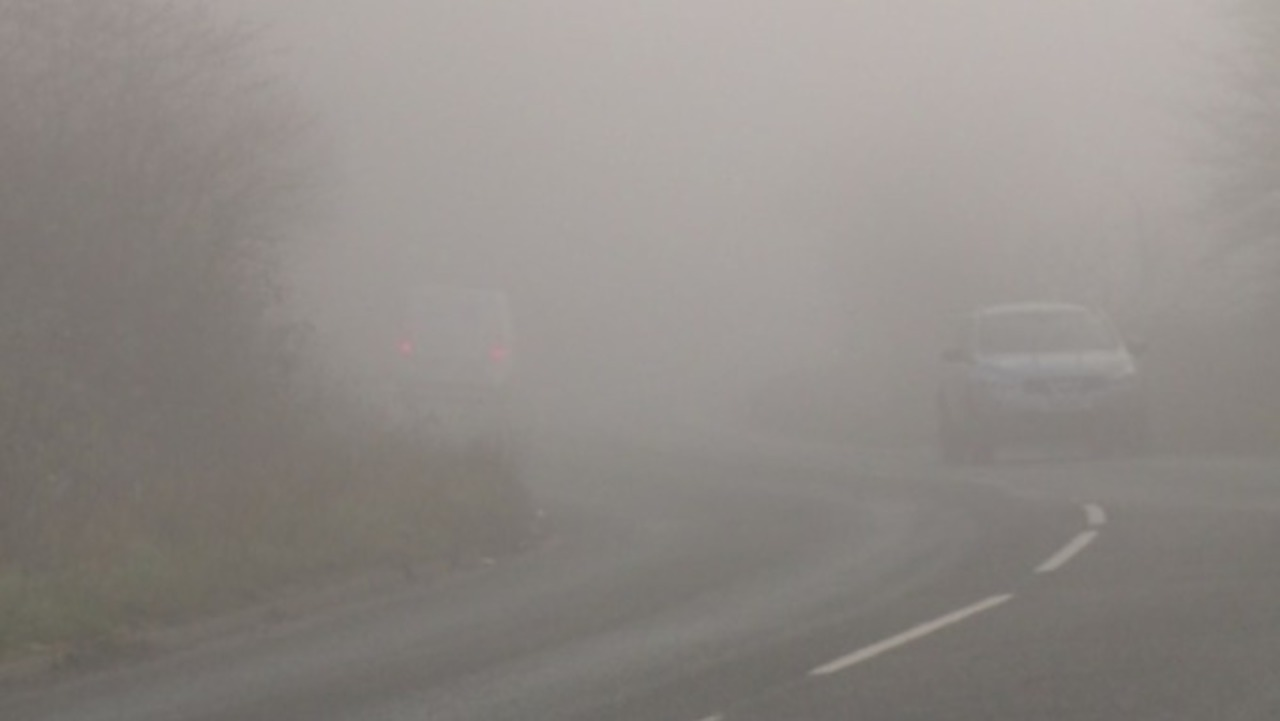car: (943, 302, 1149, 464), (395, 276, 519, 409)
